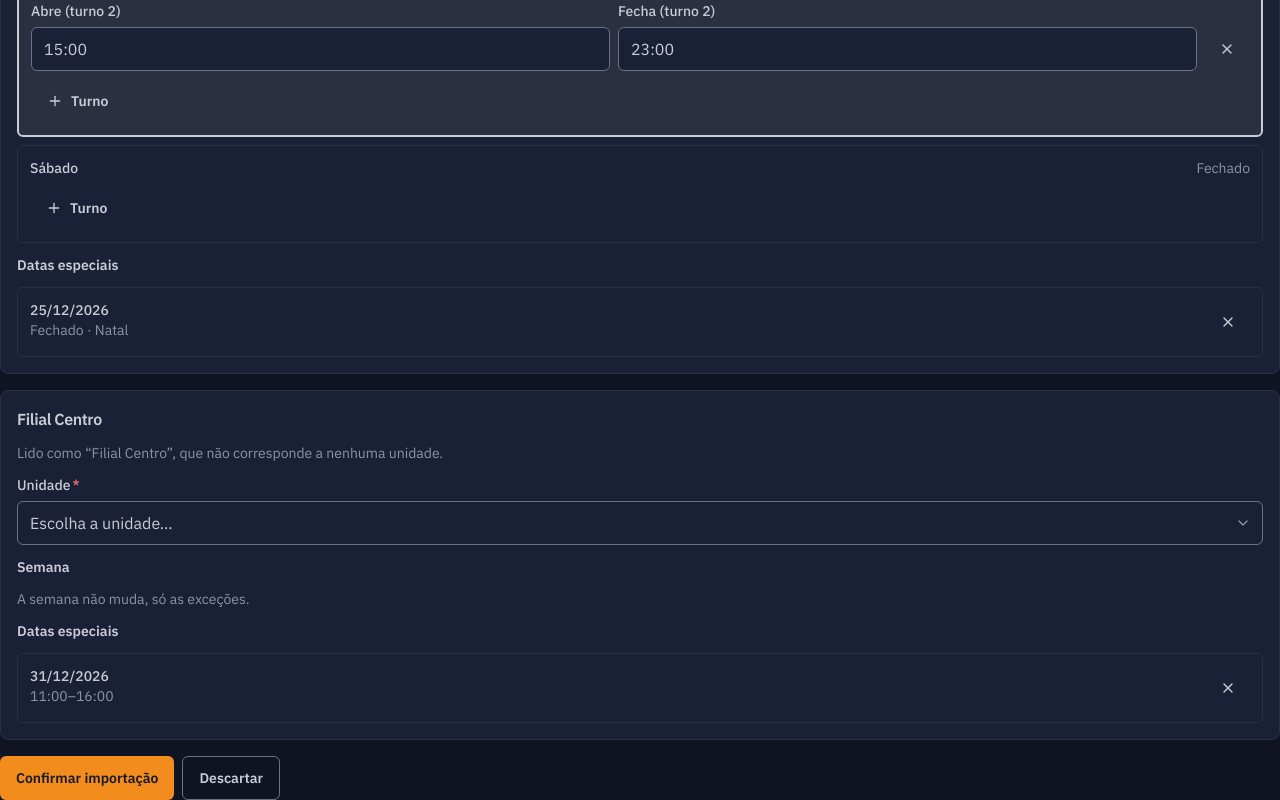
Test: RevisaoHorarios › turno inválido (abre = fecha) não é enviado
(page scrolled)
Select "Ignorar estes horários" in the dropdown labelled "Unidade*" at (640,523), box [17,501,1263,545]
(page scrolled)
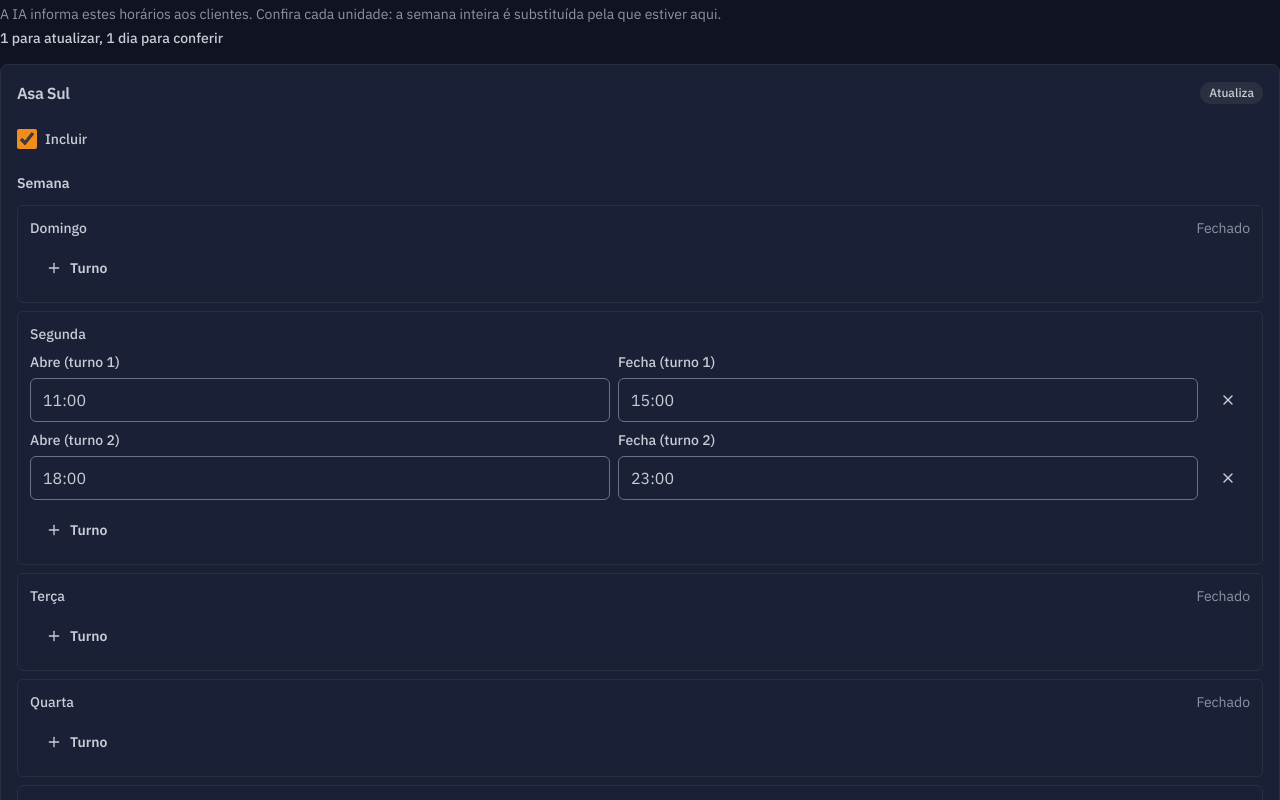
Replace the text in the field labelled "Fecha (turno 1)" with "1100" at (908,400), box [618,378,1198,422]
(page scrolled)
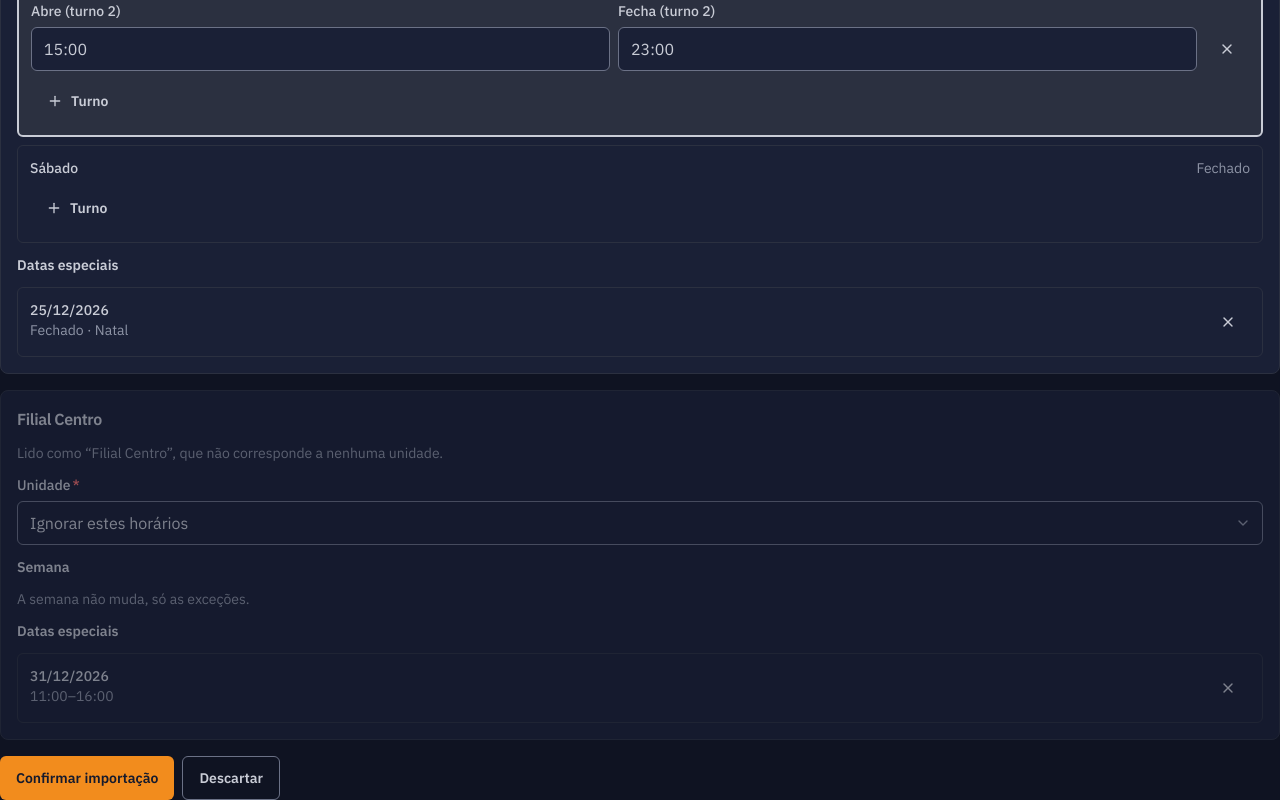
Click the button "Confirmar importação".
click(87, 778)  # box [0,756,174,799]
(page scrolled)
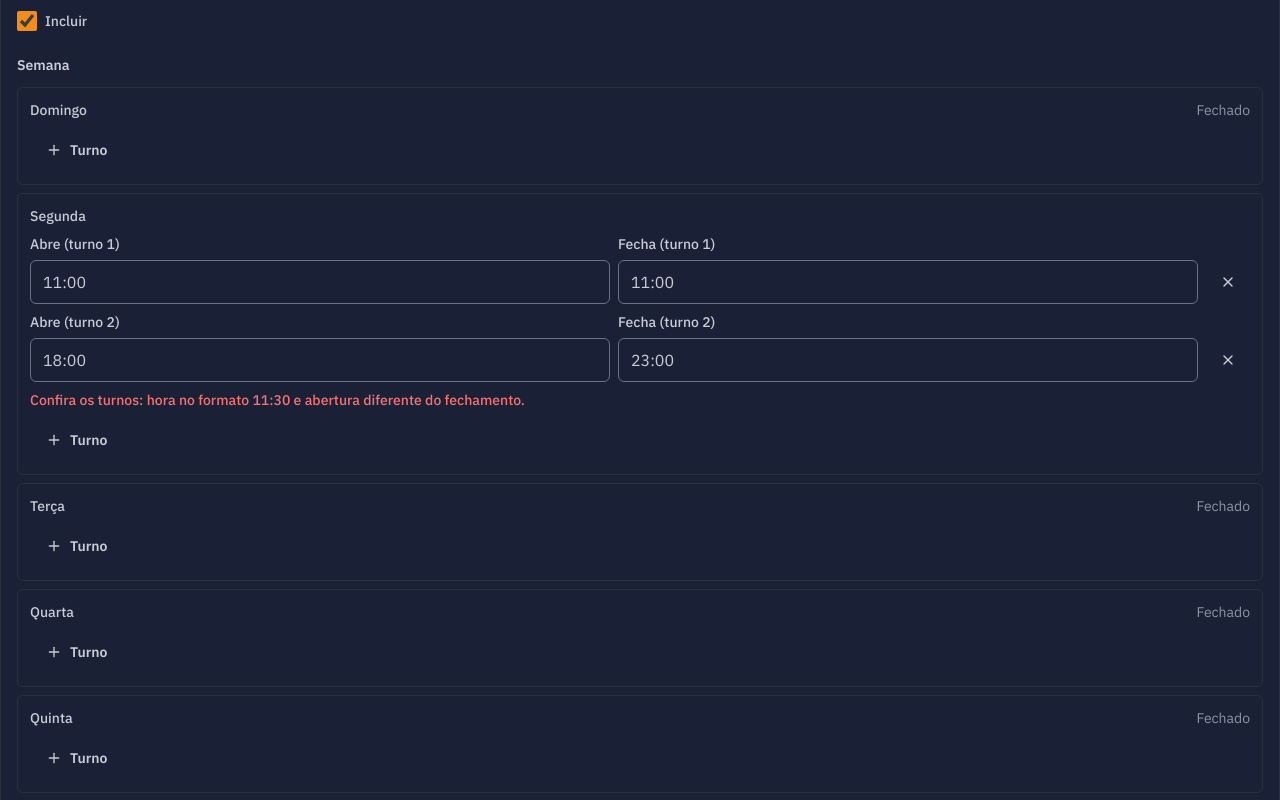
Result: the text "Confira os turnos" is shown at [30,391,525,409]
